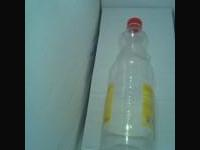bottle: (99, 15, 157, 150)
